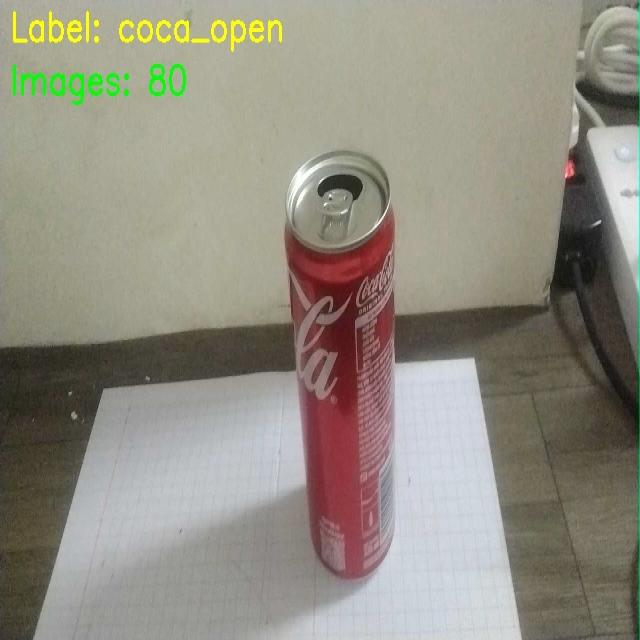Coca_open: (267, 142, 428, 585)
